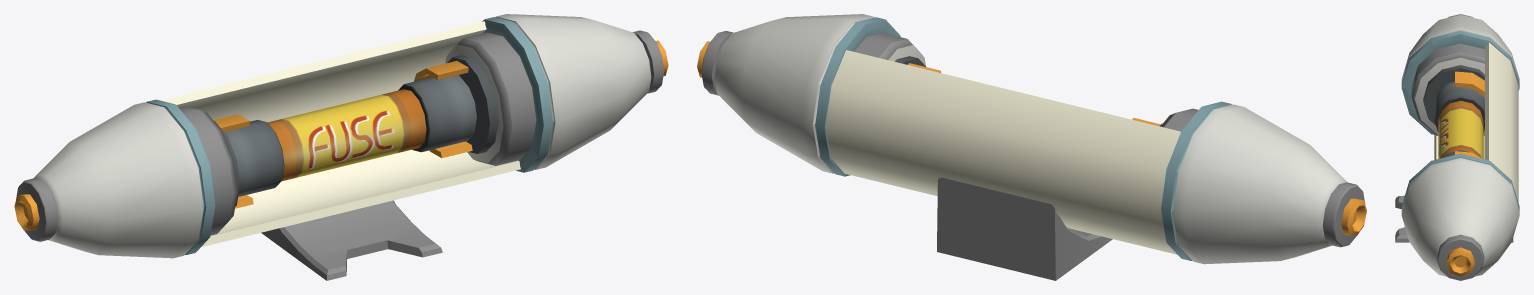
The model's file is Fuse_FuseHolder.fbx.
3 views of the same model, side by side, from view 1: azimuth 30°, elevation 25°; view 2: azimuth 150°, elevation 25°; view 3: azimuth 270°, elevation 25° (orthographic). The views are drawn at different scales.
Visible parts, largest first — view 1: FuseHolder, Fuse; view 2: FuseHolder; view 3: FuseHolder, Fuse.
Part boxes in pixels (x1,y1,x2,y2): FuseHolder: (14,14,668,280); Fuse: (224,75,476,196); FuseHolder: (697,14,1366,280); FuseHolder: (1395,14,1519,280); Fuse: (1434,81,1484,158).
Bounding box in the file's own units: 12.44 × 3.17 × 2.81.
